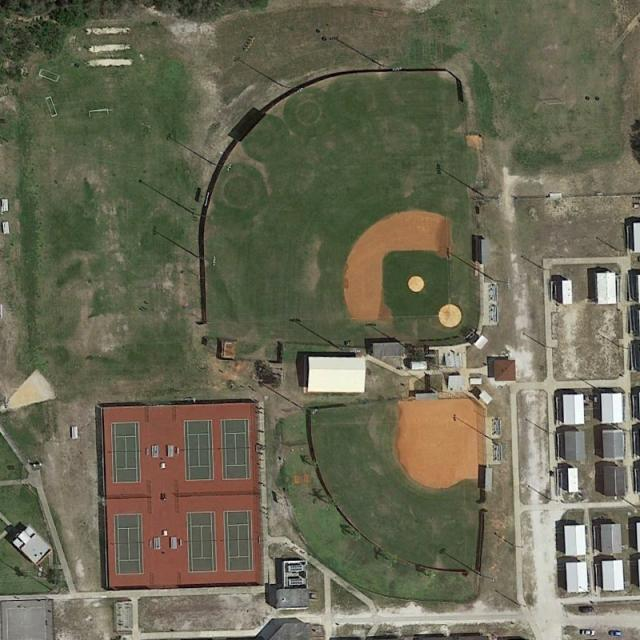vehicle: (580, 607, 594, 614), (610, 630, 622, 637), (582, 630, 595, 635)
